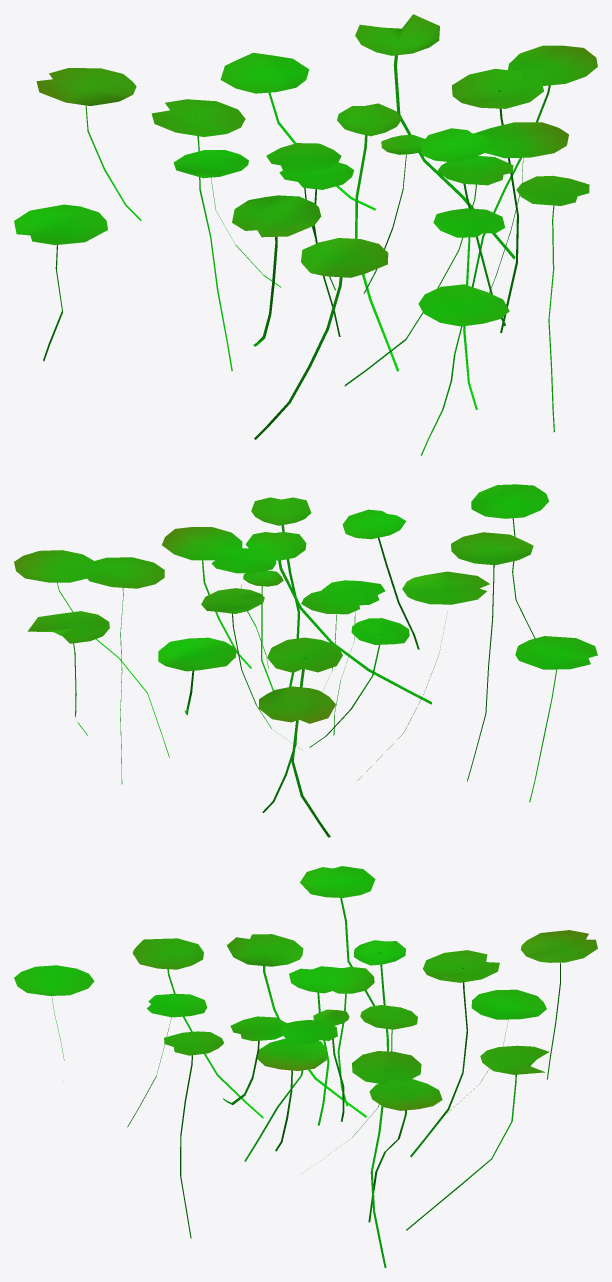
The model's file is Var4_LOD2.fbx.
3 renders of one model, top to bottom at view 1: azimuth 30°, elevation 25°; view 2: azimuth 150°, elevation 25°; view 3: azimuth 270°, elevation 25°, orthographic. The views are drawn at different scales.
Visible parts, largest first — view 1: _76da_Var4_LOD2; view 2: _76da_Var4_LOD2; view 3: _76da_Var4_LOD2.
Boxes of the visible parts, x1,y1,x2,y2 form: _76da_Var4_LOD2: (14,14,597,455); _76da_Var4_LOD2: (14,484,597,837); _76da_Var4_LOD2: (14,866,597,1267).
Bounding box in the file's own units: 186 × 71.25 × 187.
